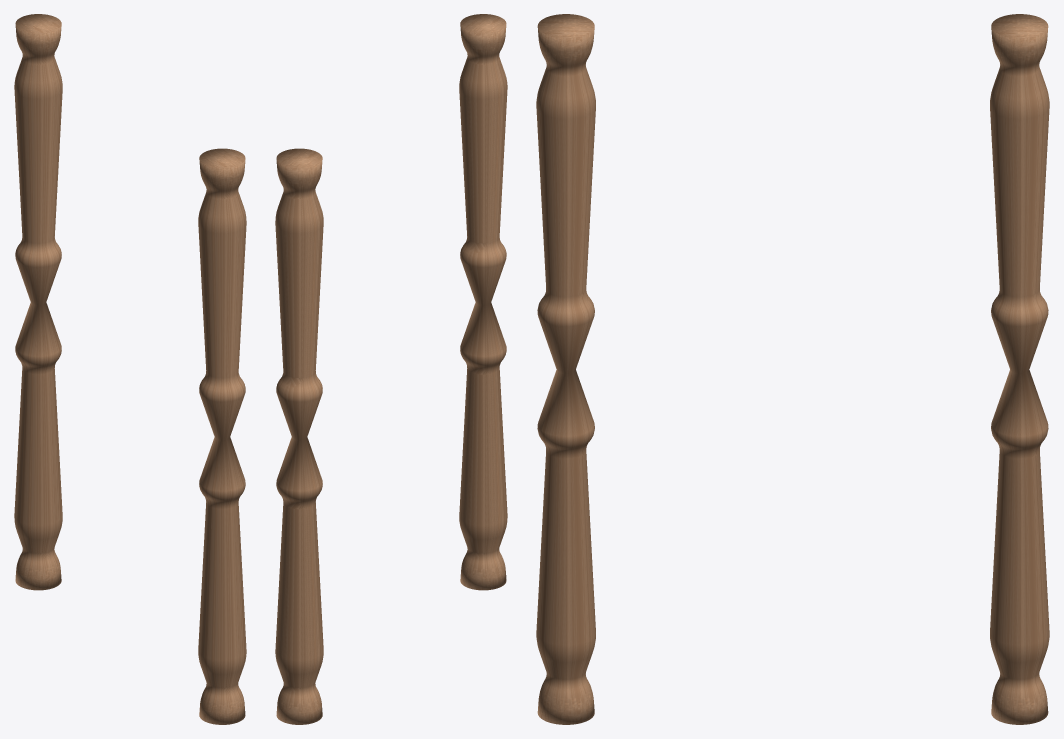
Rendered from columnas.obj.
3 renders of one model, left to right at view 1: azimuth 30°, elevation 25°; view 2: azimuth 150°, elevation 25°; view 3: azimuth 270°, elevation 25°, orthographic. The views are drawn at different scales.
Visible parts, largest first — view 1: Cylinder.001; view 2: Cylinder.001; view 3: Cylinder.001.
Boxes of the visible parts, bbox=[...] form: Cylinder.001: bbox=[14, 14, 246, 724]; Cylinder.001: bbox=[275, 14, 507, 724]; Cylinder.001: bbox=[536, 14, 1049, 724].
Size of the model in its own units: 0.1351 by 1.72 by 1.16.
Materials: 1 (1 with a texture image).
